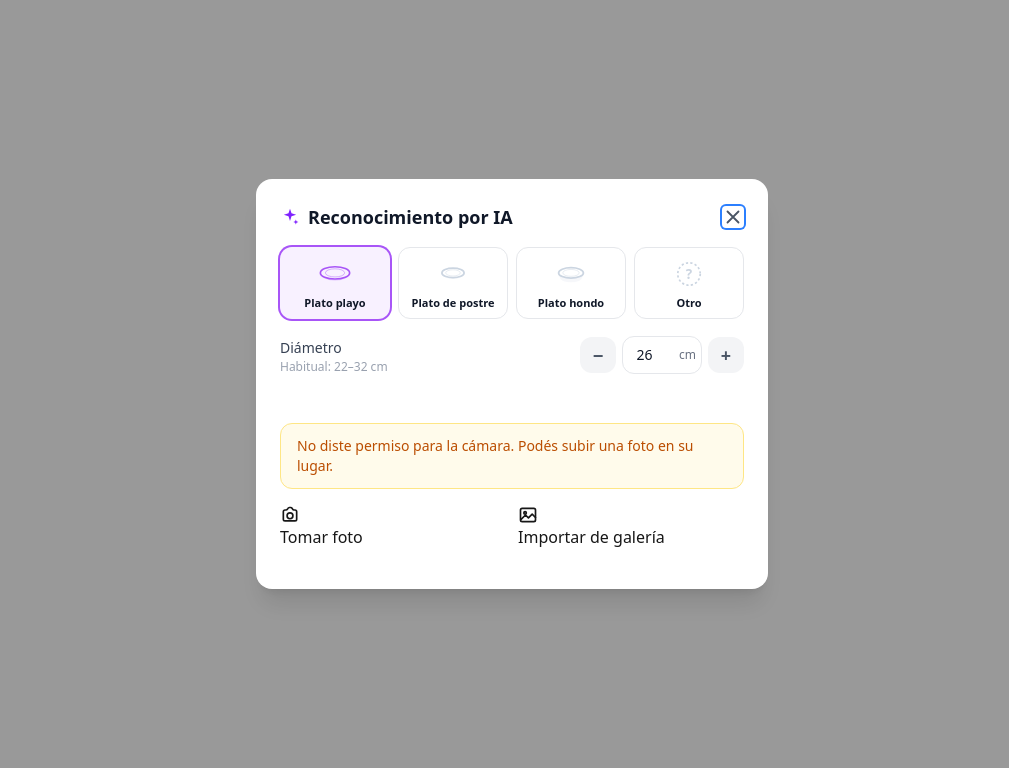
Test: AIRecognitionModal — Pantalla 1 unificada (NUT-169) › elegir otro plato actualiza el diámetro precargado en la misma pantalla, sin un paso "Continuar"
The image size is (1024, 768).
Click the radio button "Plato hondo" at [571, 283], box [516,247,626,319]
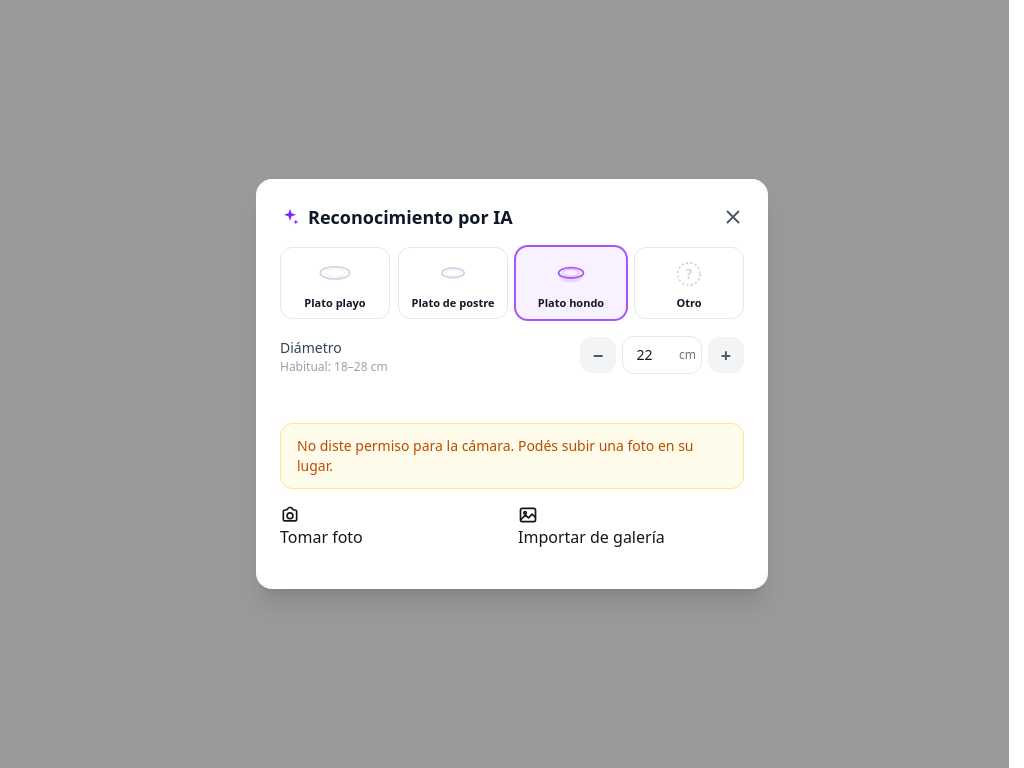
Expected: the text "Importar de galería" is shown, [518,526,665,548]
Expected: the number field labelled "Diámetro" holds "22", [622,336,702,374]
